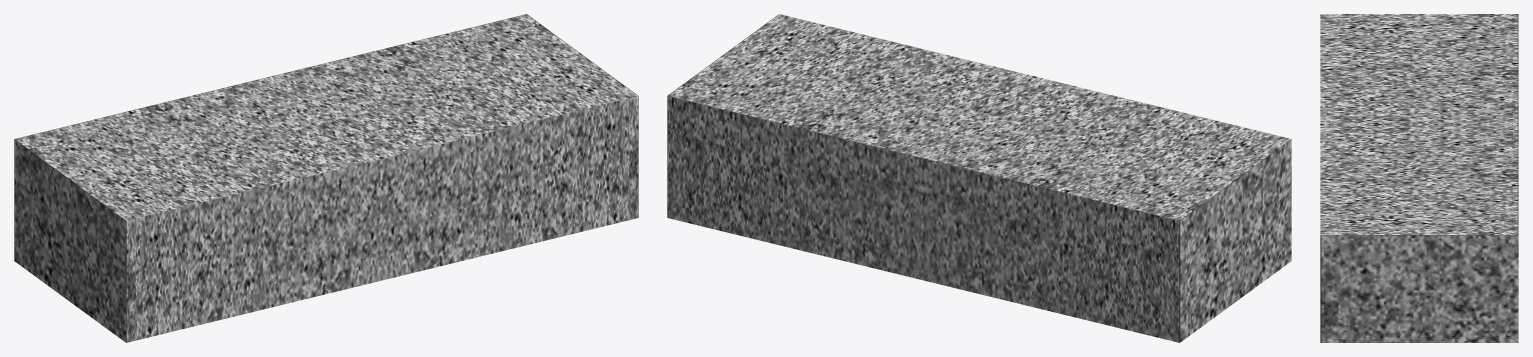
Rendered from SM_Sun_Bul_Step.fbx.
3 renders of one model, left to right at view 1: azimuth 30°, elevation 25°; view 2: azimuth 150°, elevation 25°; view 3: azimuth 270°, elevation 25°, orthographic. The views are drawn at different scales.
Parts seen in each view (by area): view 1: SM_Sun_Bul_Step; view 2: SM_Sun_Bul_Step; view 3: SM_Sun_Bul_Step.
Part boxes in pixels (bbox=[...]): SM_Sun_Bul_Step: bbox=[14, 14, 638, 342]; SM_Sun_Bul_Step: bbox=[667, 14, 1291, 342]; SM_Sun_Bul_Step: bbox=[1320, 14, 1518, 342].
Size of the model in its own units: 135 by 30.57 by 50.91.
